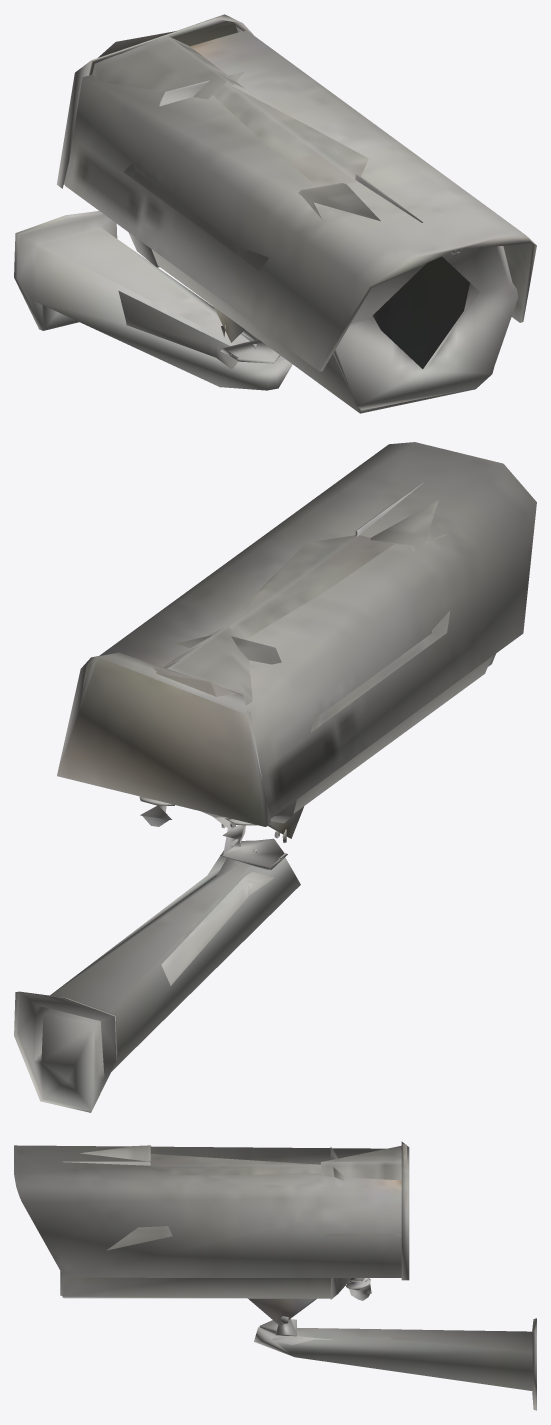
The model's file is securityCam_lo.glb.
3 renders of one model, top to bottom at view 1: azimuth 30°, elevation 25°; view 2: azimuth 150°, elevation 25°; view 3: azimuth 270°, elevation 25°, orthographic. The views are drawn at different scales.
Visible parts, largest first — view 1: security_camera_01; view 2: security_camera_01; view 3: security_camera_01.
Boxes of the visible parts, x1,y1,x2,y2 form: security_camera_01: (14,14,536,413); security_camera_01: (14,442,536,1112); security_camera_01: (14,1141,536,1410).
Size of the model in its own units: 0.1696 by 0.2854 by 0.5536.
Materials: 2 (2 with a texture image).
